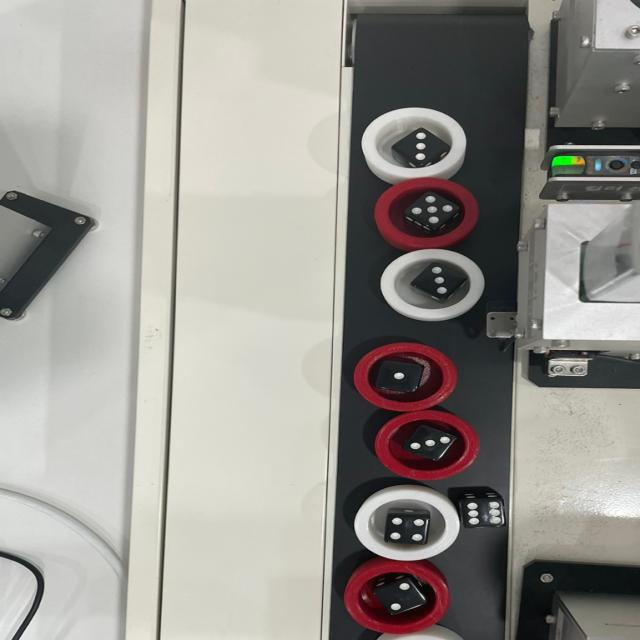DICE1: (386, 366, 418, 389)
DICE2: (383, 584, 423, 610)
DICE3: (417, 268, 460, 298), (412, 429, 453, 457), (402, 133, 443, 160)
DICE4: (388, 516, 430, 542)
DICE5: (411, 195, 453, 224)
DICE6: (465, 500, 503, 526)
RedChip: (345, 564, 453, 634), (378, 178, 480, 248), (375, 409, 474, 479), (354, 341, 455, 409)
WhiteChip: (379, 248, 488, 321), (355, 489, 461, 561), (359, 108, 470, 176)
